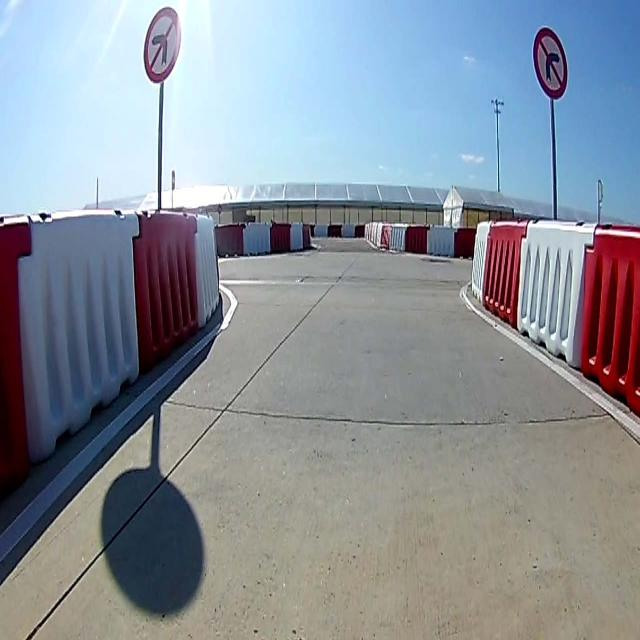sagadonulmez: (530, 26, 570, 101)
soladonulmez: (142, 9, 180, 75)
